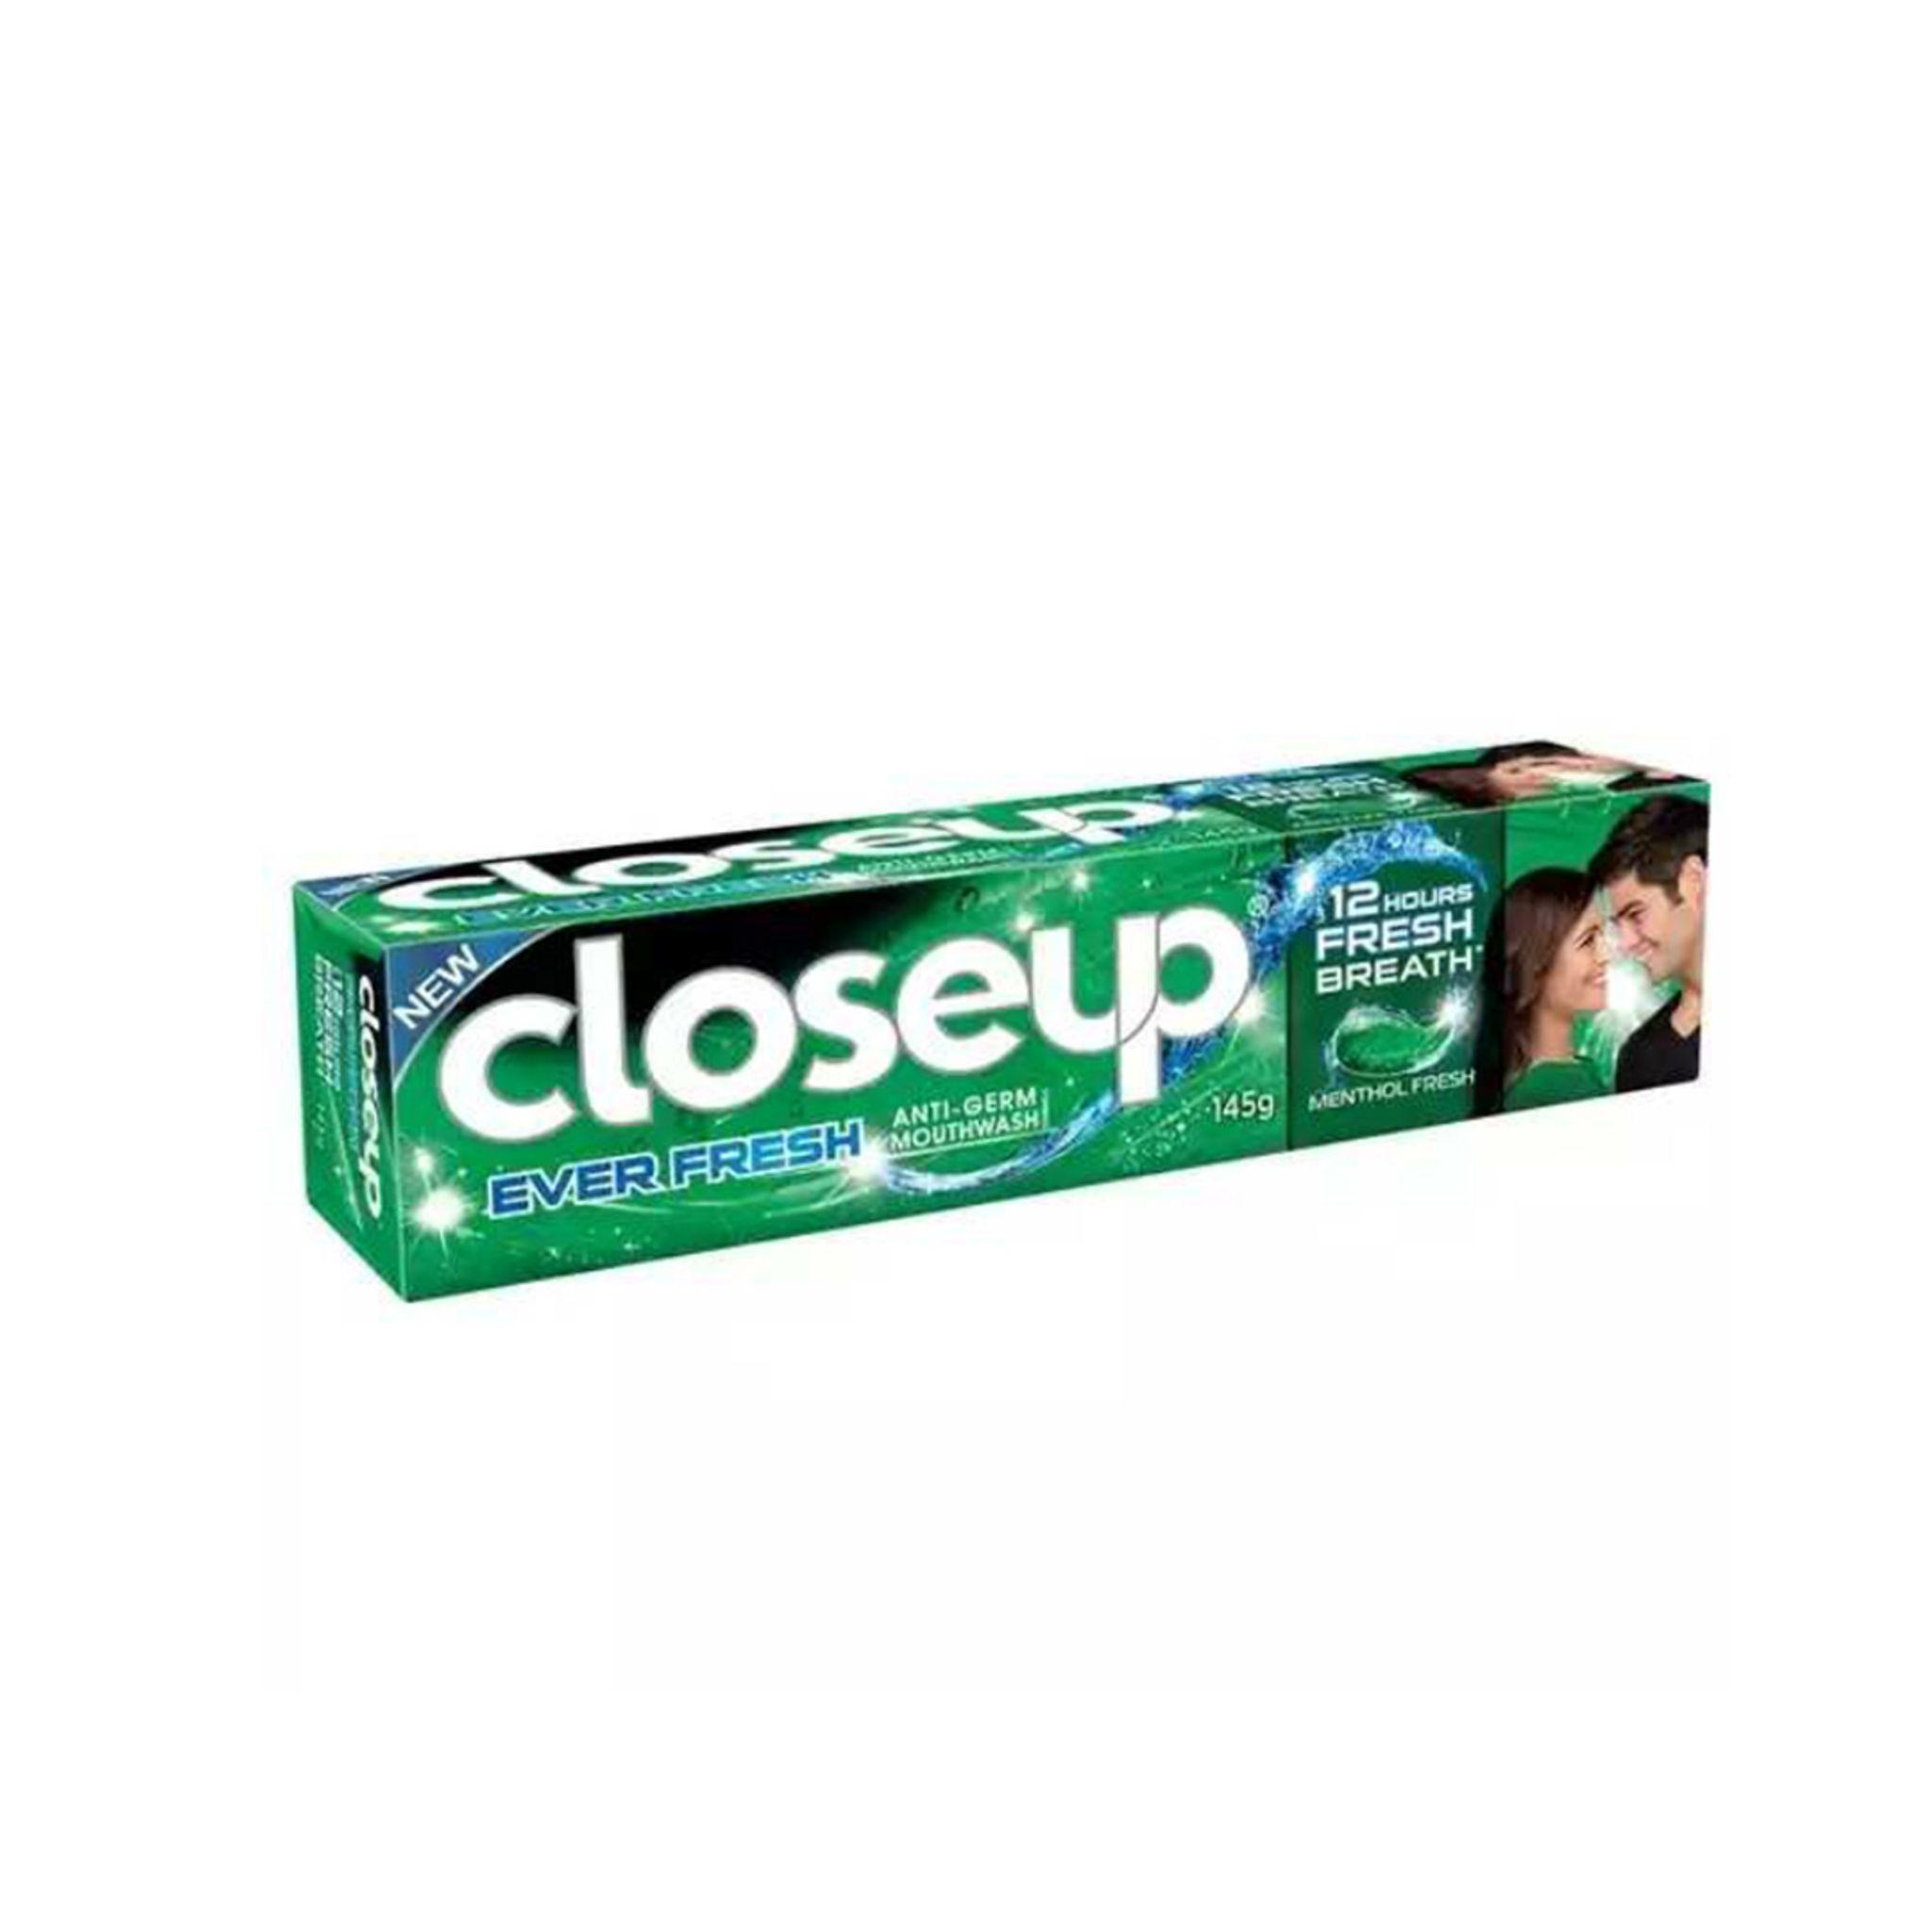CloseUp: (294, 732, 1713, 1299)
